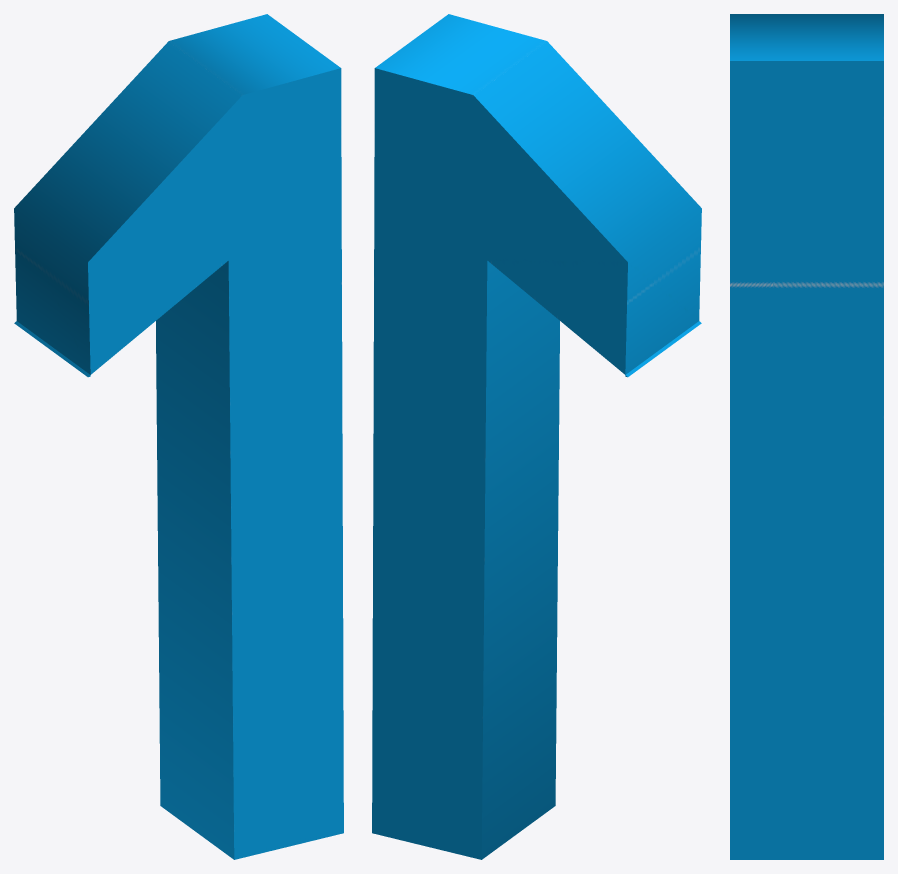
The picture shows the model from 3 angles, left to right: view 1: azimuth 30°, elevation 25°; view 2: azimuth 150°, elevation 25°; view 3: azimuth 270°, elevation 25°; orthographic projection. The views are drawn at different scales.
Visible parts, largest first — view 1: root; view 2: root; view 3: root.
Boxes of the visible parts, left/top/right/bottom form: root: left=14, top=14, right=343, bottom=859; root: left=372, top=14, right=701, bottom=859; root: left=730, top=14, right=883, bottom=859.
Bounding box in the file's own units: 0.2051 × 0.5862 × 0.1025.
Materials: 1 (1 with a texture image).
